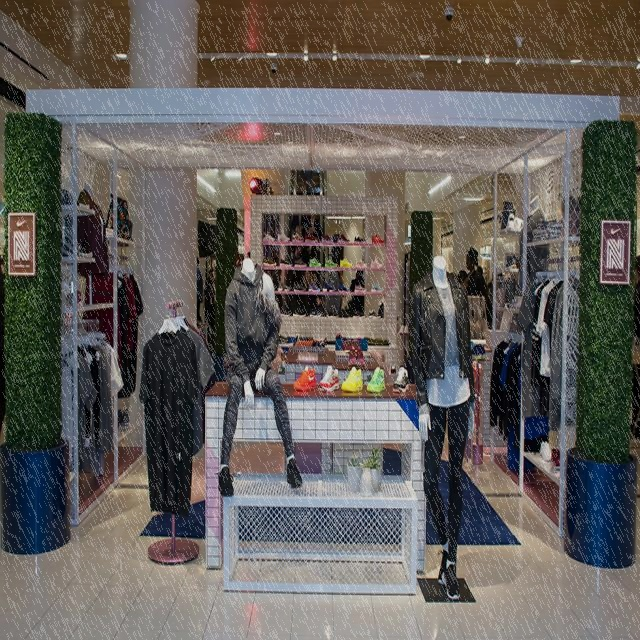pessoa: (210, 178, 320, 504), (406, 252, 468, 602), (498, 186, 554, 312), (61, 170, 118, 286), (628, 254, 640, 445), (464, 245, 486, 299), (204, 266, 217, 336), (348, 268, 366, 316), (323, 271, 342, 316), (203, 276, 216, 336), (196, 255, 204, 329), (336, 270, 351, 294), (475, 262, 483, 276)
